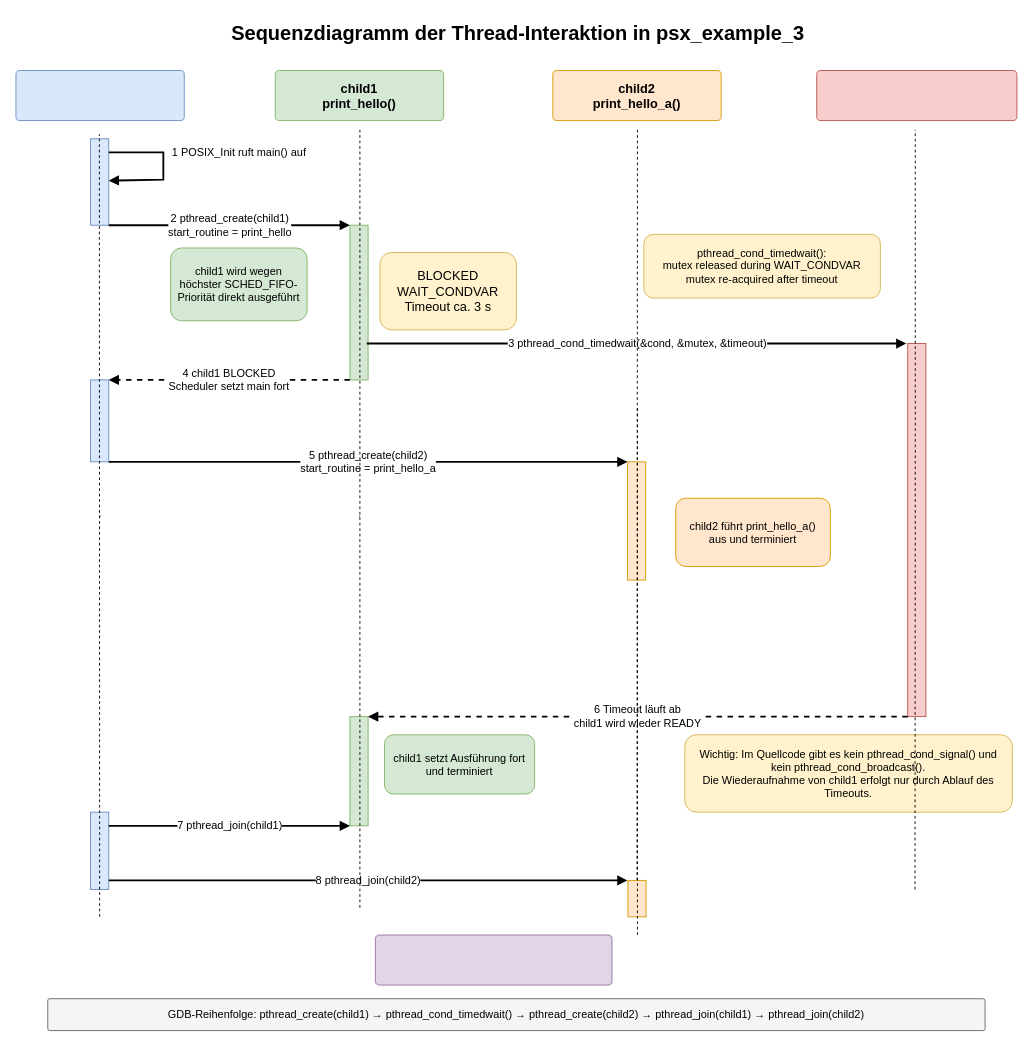
Some shapes in this 1033 by 1047 pixel diagram are drawn without their labels. Each missing label, with the centre of its shape:
"main() / POSIX_Init" goes at [99,95].
"Mutex / Condition Variable" goes at [916,95].
"Programm endet normal" goes at [493,959].
